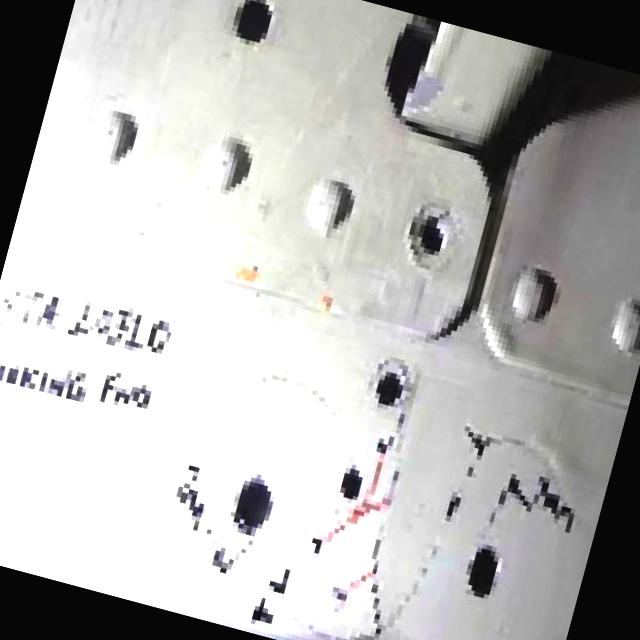crack: (347, 360, 452, 636)
